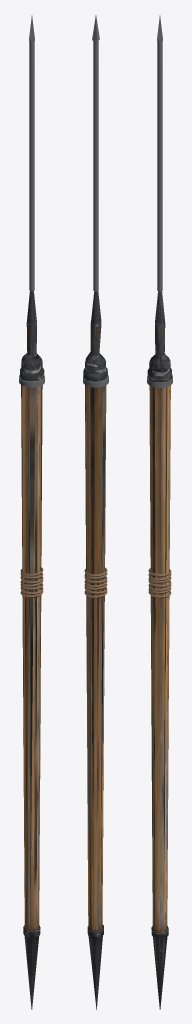
The model's file is weap_roman_pilum_1.glb.
The picture shows the model from 3 angles, left to right: view 1: azimuth 90°, elevation 25°; view 2: azimuth 150°, elevation 25°; view 3: azimuth 270°, elevation 25°; orthographic projection.
Parts seen in each view (by area): view 1: MeshyGear_weap_roman_pilum, Shank, Q_LE0_RepairThong, Q_GE3_JunctionCollar; view 2: MeshyGear_weap_roman_pilum, Shank, Q_LE0_RepairThong, Q_GE3_JunctionCollar, ShankHead; view 3: MeshyGear_weap_roman_pilum, Shank, Q_LE0_RepairThong, Q_GE3_JunctionCollar.
Part boxes in pixels (left/top/right/bottom): MeshyGear_weap_roman_pilum: left=19, top=291, right=44, bottom=1009; Shank: left=29, top=37, right=34, bottom=291; Q_LE0_RepairThong: left=20, top=567, right=43, bottom=597; Q_GE3_JunctionCollar: left=19, top=375, right=44, bottom=387; MeshyGear_weap_roman_pilum: left=83, top=291, right=107, bottom=1009; Shank: left=93, top=37, right=98, bottom=291; Q_LE0_RepairThong: left=84, top=567, right=107, bottom=598; Q_GE3_JunctionCollar: left=83, top=375, right=108, bottom=387; ShankHead: left=92, top=15, right=99, bottom=41; MeshyGear_weap_roman_pilum: left=147, top=291, right=172, bottom=1009; Shank: left=157, top=37, right=162, bottom=291; Q_LE0_RepairThong: left=148, top=568, right=171, bottom=598; Q_GE3_JunctionCollar: left=147, top=376, right=172, bottom=387.
Size of the model in its own units: 0.0476 by 2 by 0.0476.
3 materials, 1 textured.
